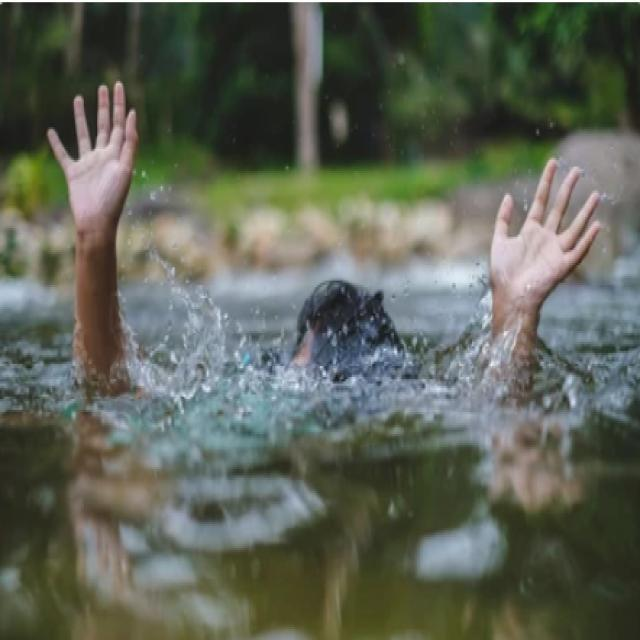Out of Water: (43, 74, 603, 398)
